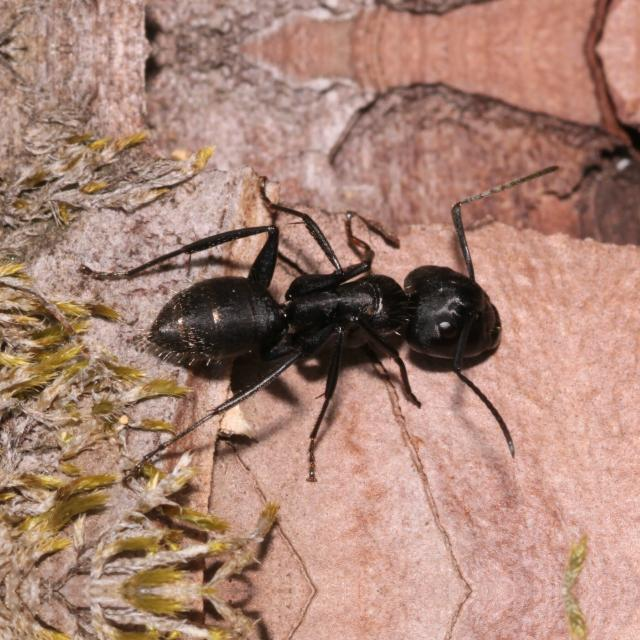Camponotus: (124, 214, 544, 426)
